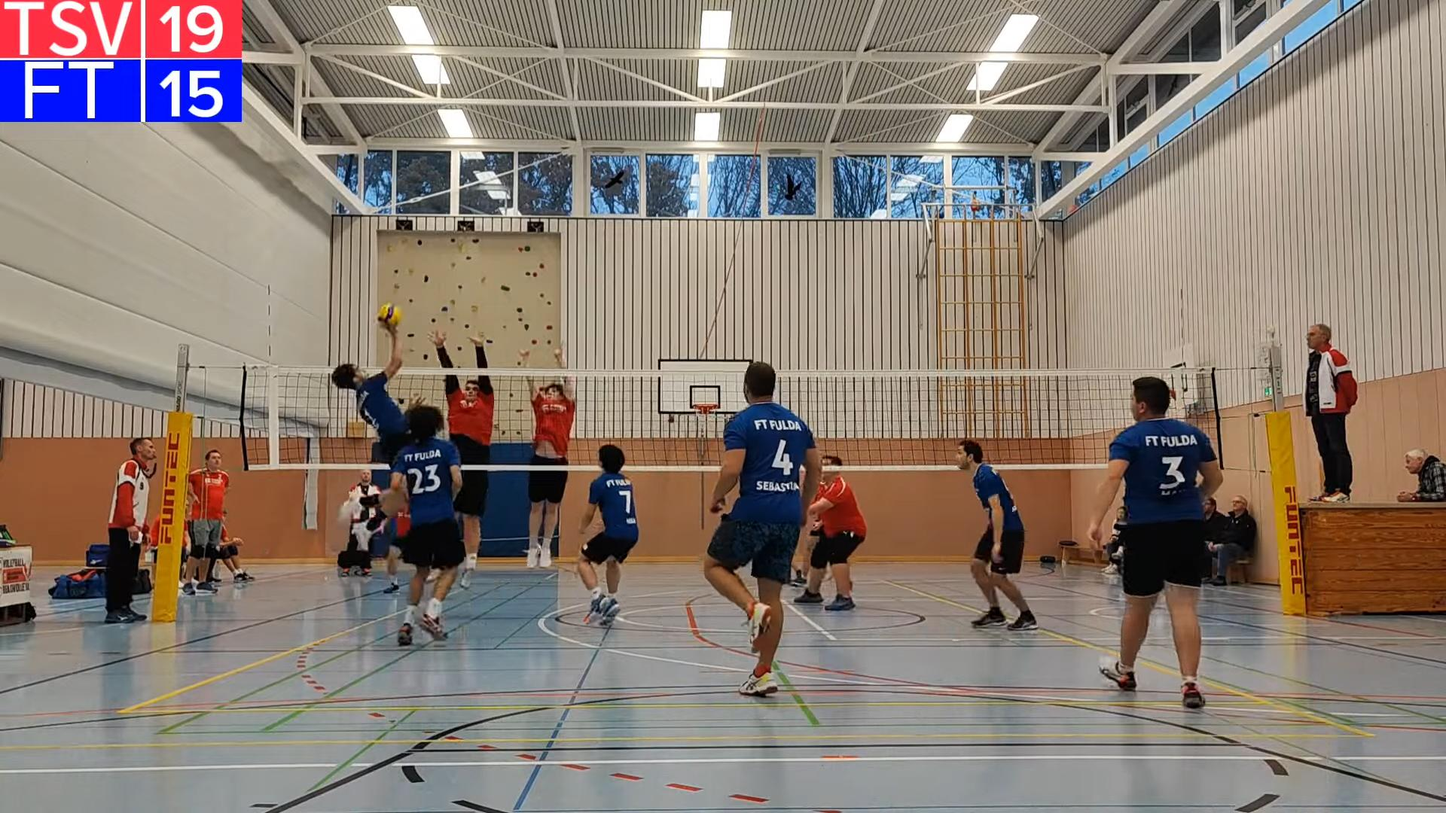attacco: (329, 324, 409, 447)
muro: (433, 325, 503, 582), (513, 327, 577, 576)
